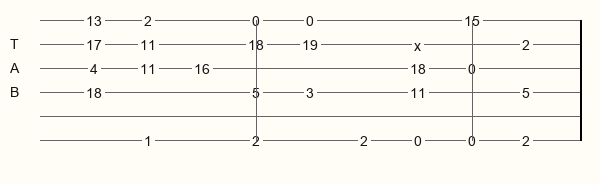0: (252, 13, 264, 27), (306, 13, 318, 27), (414, 133, 426, 147), (468, 133, 480, 147), (468, 61, 480, 75)
1: (144, 133, 156, 147)
11: (140, 37, 160, 51), (140, 61, 160, 75), (410, 85, 430, 99)
13: (86, 13, 106, 27)
15: (464, 13, 484, 27)
16: (194, 61, 214, 75)
17: (86, 37, 106, 51)
18: (86, 85, 106, 99), (248, 37, 268, 51), (410, 61, 430, 75)
19: (302, 37, 322, 51)
2: (144, 13, 156, 27), (252, 133, 264, 147), (360, 133, 372, 147), (522, 133, 534, 147), (522, 37, 534, 51)
3: (306, 85, 318, 99)
4: (90, 61, 102, 75)
5: (252, 85, 264, 99), (522, 85, 534, 99)
x: (414, 38, 425, 50)
